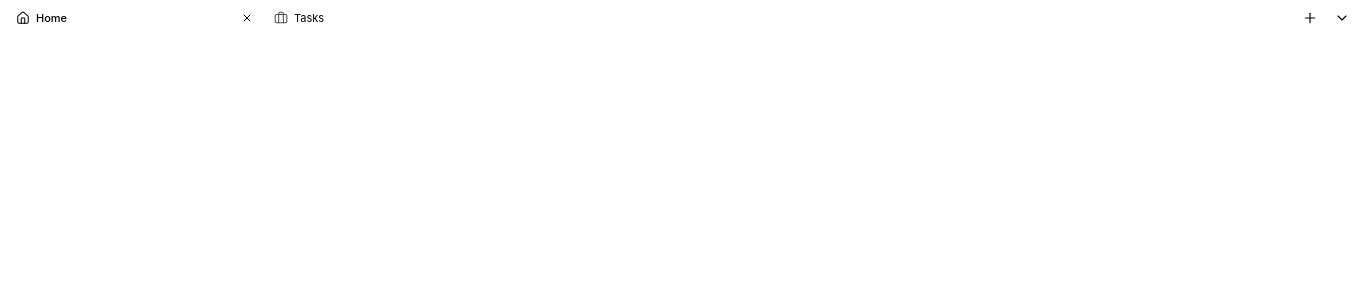
Test: TabStrip › right-click opens the context menu with the expected items
Right-click the tab "Tasks" at [299, 18], box left=274, top=11, right=324, bottom=25
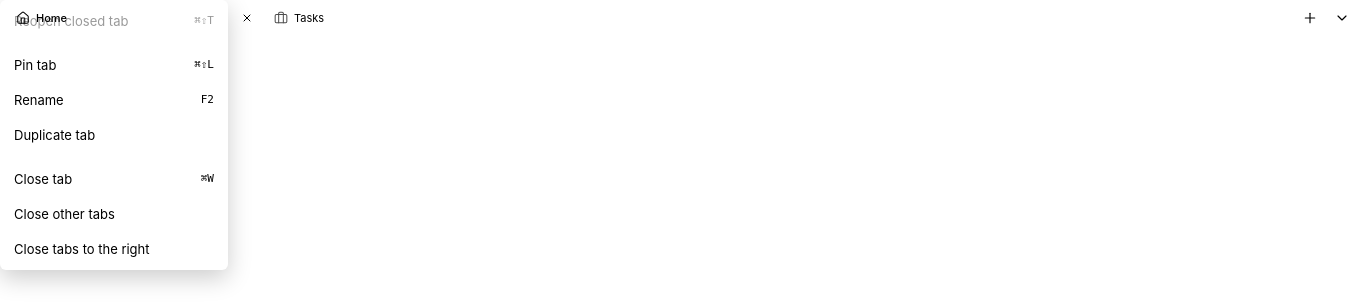
Expected: the menu named "Tab actions" is shown, left=0, top=0, right=228, bottom=270
Expected: the text "Pin tab" is shown, left=14, top=54, right=56, bottom=76
Expected: the text "Rename" is shown, left=14, top=89, right=64, bottom=111
